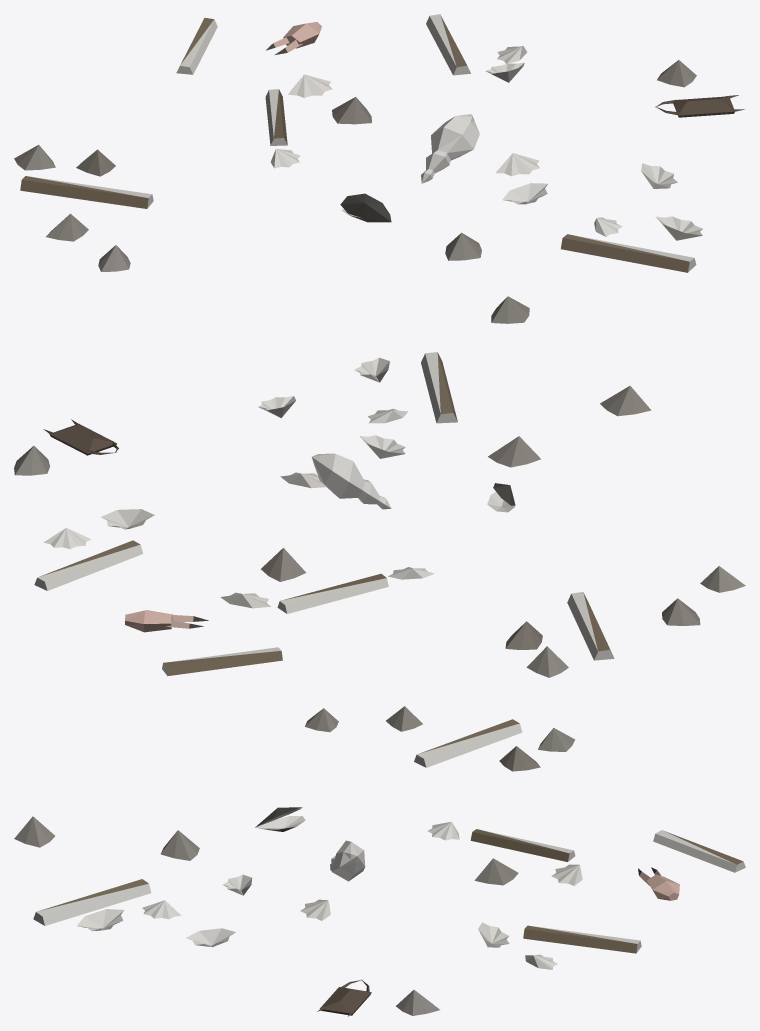
The model's file is shell-scatter-6d36b7.glb.
3 views of the same model, one above another, from view 1: azimuth 30°, elevation 25°; view 2: azimuth 150°, elevation 25°; view 3: azimuth 270°, elevation 25° (orthographic). The views are drawn at different scales.
Parts seen in each view (by area): view 1: shell-scatter-body; view 2: shell-scatter-body; view 3: shell-scatter-body.
Boxes of the visible parts, bbox=[...] form: shell-scatter-body: bbox=[14, 14, 744, 323]; shell-scatter-body: bbox=[14, 352, 745, 677]; shell-scatter-body: bbox=[14, 706, 745, 1016].
Size of the model in its own units: 1.08 by 0.0779 by 1.09.
